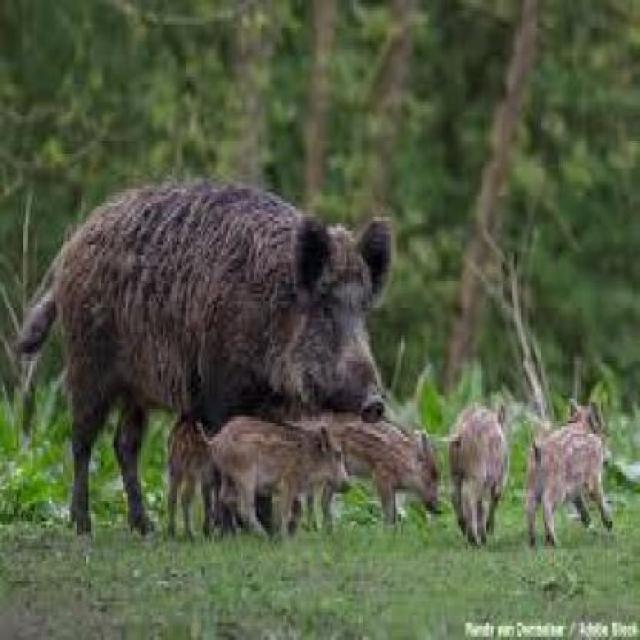wildboar: (13, 166, 398, 545), (194, 392, 357, 548), (312, 389, 448, 543), (518, 387, 622, 553), (440, 384, 518, 550)
